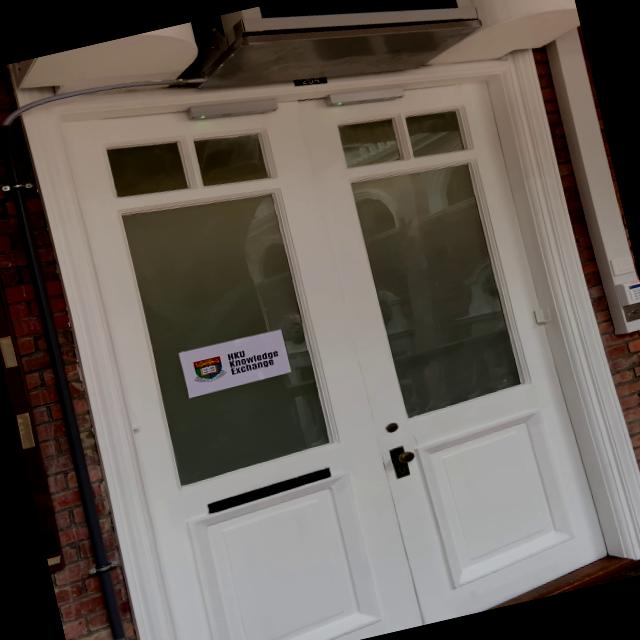room254: (290, 70, 332, 92)
